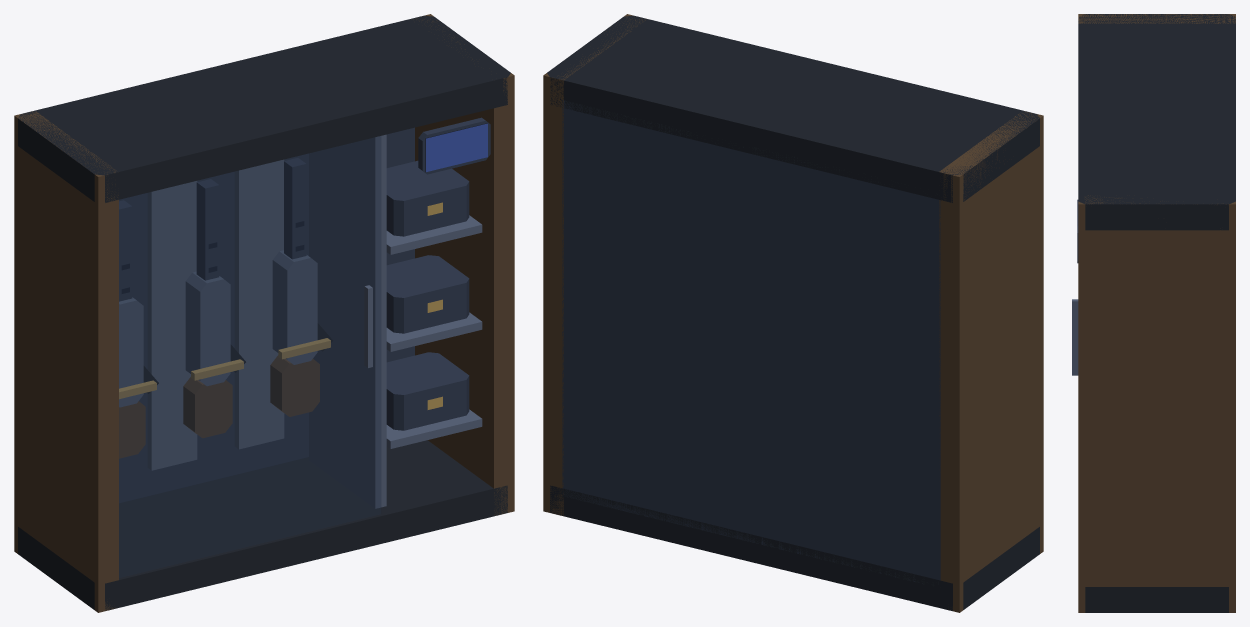
File: res_tactical_gun_cabinet.glb
The picture shows the model from 3 angles, left to right: view 1: azimuth 30°, elevation 25°; view 2: azimuth 150°, elevation 25°; view 3: azimuth 270°, elevation 25°; orthographic projection. The views are drawn at different scales.
Visible parts, largest first — view 1: armory_glass, cabinet_cap, carbine_stock, armory_divider, carbine_shroud, display_mount, print, case_latch; view 2: carbine_shroud, cabinet_cap, carbine_stock; view 3: carbine_stock, cabinet_cap, armory_divider.
Part boxes in pixels (bbox=[...]): armory_glass: bbox=[119, 136, 380, 577]; cabinet_cap: bbox=[18, 15, 510, 610]; carbine_stock: bbox=[14, 14, 514, 612]; armory_divider: bbox=[119, 134, 482, 508]; carbine_shroud: bbox=[119, 117, 490, 502]; display_mount: bbox=[147, 159, 284, 470]; print: bbox=[426, 123, 487, 171]; case_latch: bbox=[119, 202, 442, 409]; carbine_shroud: bbox=[562, 100, 940, 585]; cabinet_cap: bbox=[547, 15, 1039, 611]; carbine_stock: bbox=[543, 14, 1043, 612]; carbine_stock: bbox=[1078, 14, 1235, 612]; cabinet_cap: bbox=[1078, 14, 1235, 612]; armory_divider: bbox=[1072, 299, 1078, 375].
Bounding box in the file's own units: 2.2 × 2.2 × 0.8.
